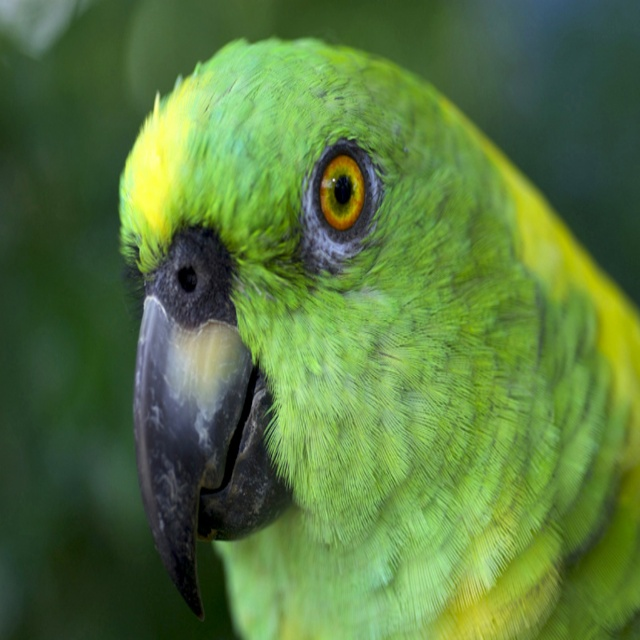Parrot: (118, 38, 639, 639)
